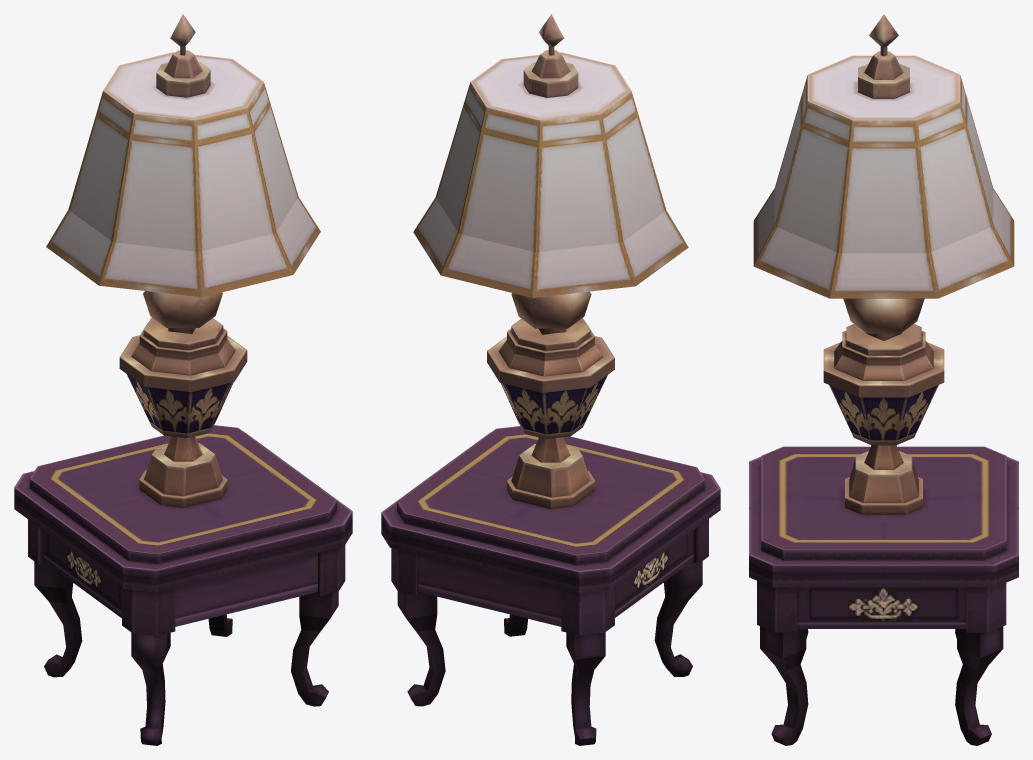
The model's file is my_gehennaparty_01_table_01.glb.
The picture shows the model from 3 angles, left to right: view 1: azimuth 30°, elevation 25°; view 2: azimuth 150°, elevation 25°; view 3: azimuth 270°, elevation 25°; orthographic projection.
Visible parts, largest first — view 1: my_gehennaparty_01_table_01; view 2: my_gehennaparty_01_table_01; view 3: my_gehennaparty_01_table_01.
Part boxes in pixels (<box>): my_gehennaparty_01_table_01: <box>14,14,352,745</box>; my_gehennaparty_01_table_01: <box>381,14,720,745</box>; my_gehennaparty_01_table_01: <box>749,14,1018,745</box>.
Bounding box in the file's own units: 0.00301 × 0.00842 × 0.00301.
Materials: 1 (1 with a texture image).
